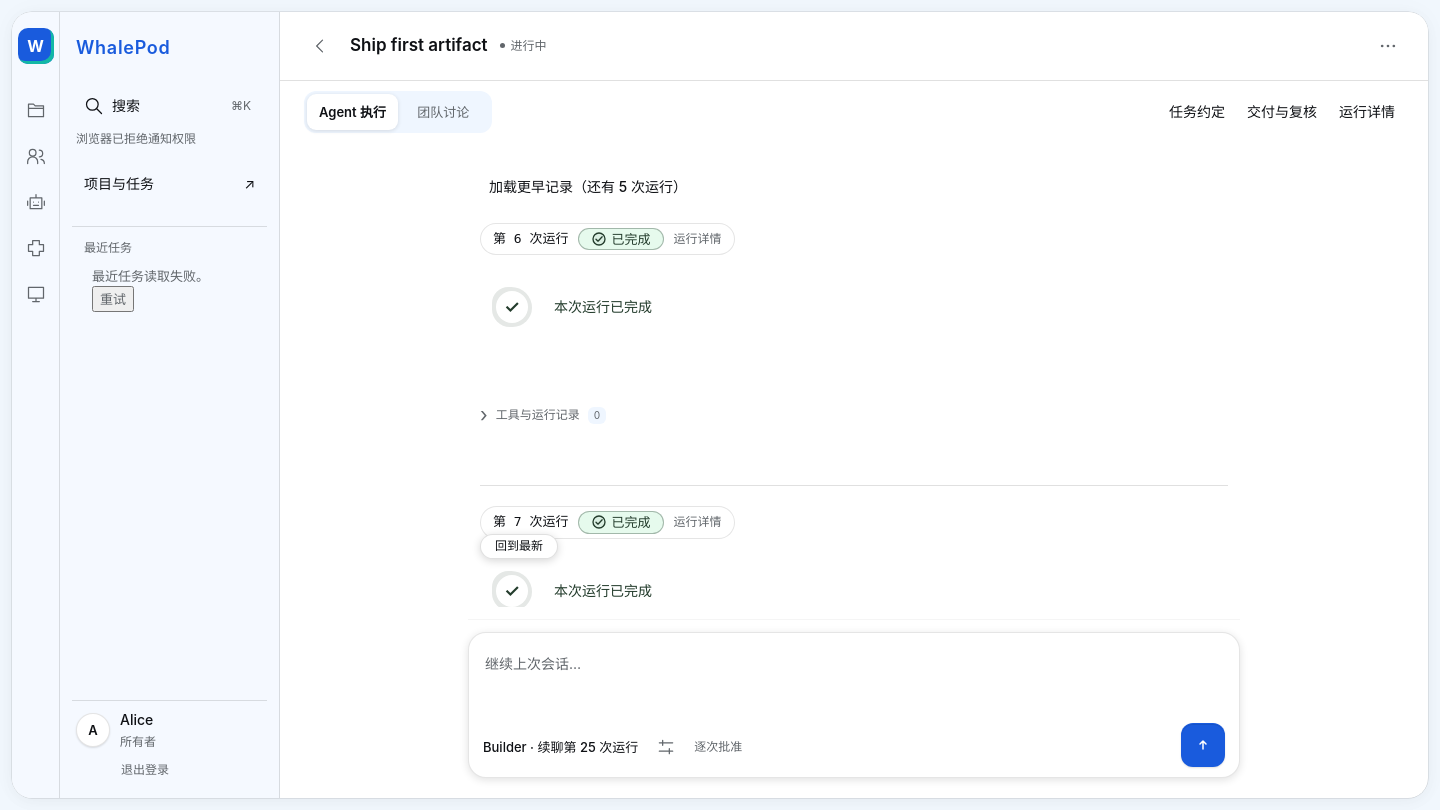
Scenario: 连续对话：段序与历史阅读（判据 1） › 首屏 20 段；顶部加载更早 20 次；加载更早不把正在读的人拽到底部（判据 6 的组件面）
(page scrolled)
Expected: the text with class "run-label" reads "第 6 次运行", [493,231,568,246]
Expected: the button with test id "conversation-jump" is shown, [480,534,558,559]
Click the button with test id "load-earlier" at (588, 187), box [480,167,696,207]
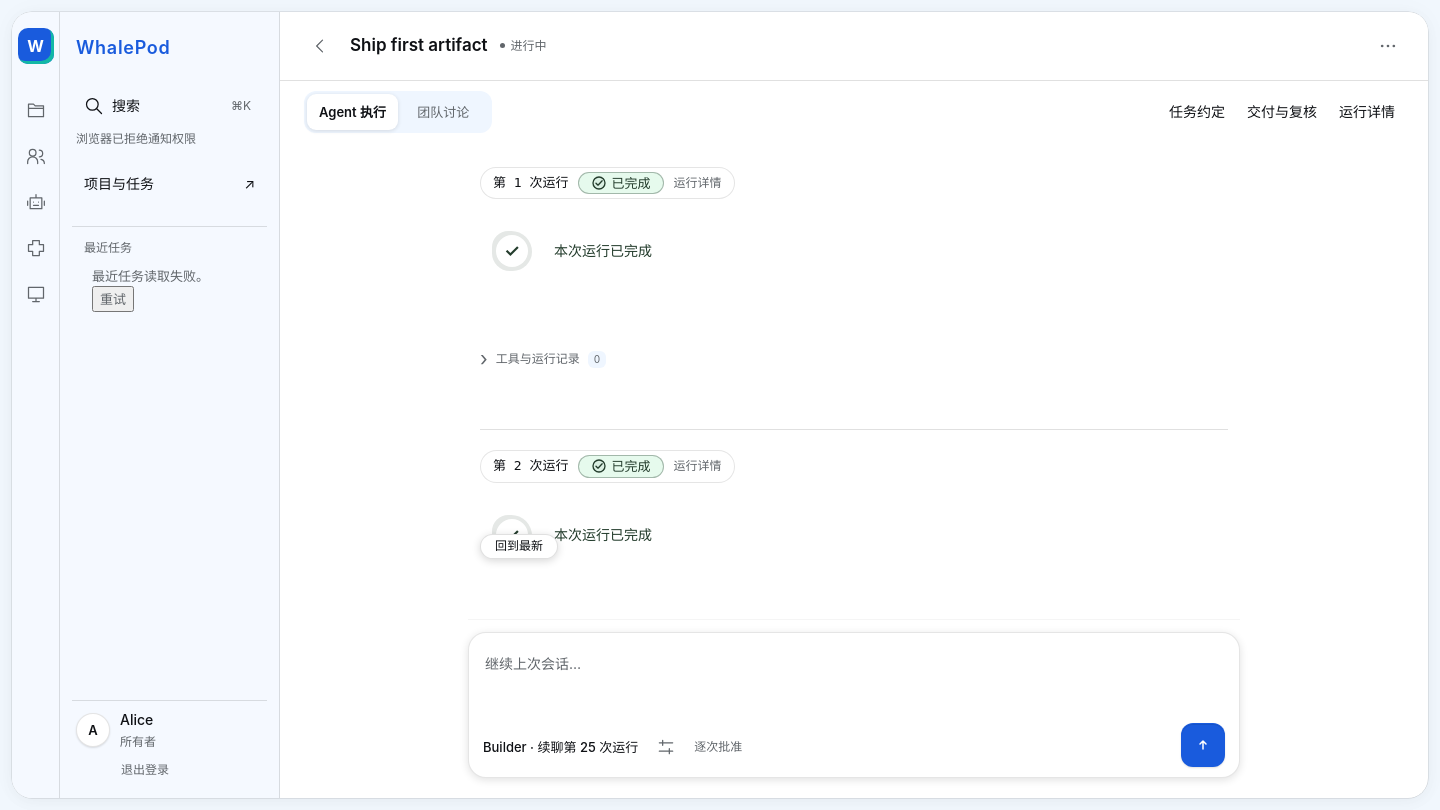
Result: the button with test id "load-earlier" is gone
